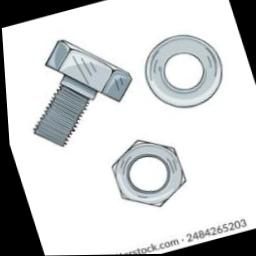Non-corroded Nut: (109, 141, 184, 208)
Non-corroded-Bolts: (31, 40, 132, 147)
